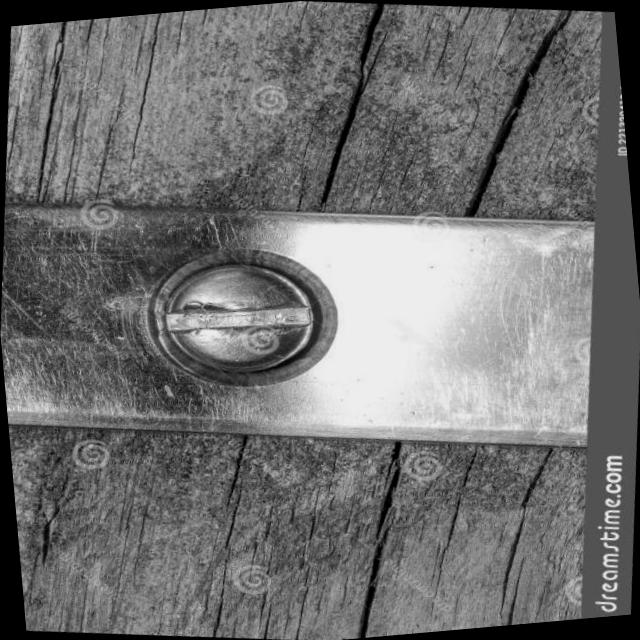Slotted: (130, 234, 366, 403)
